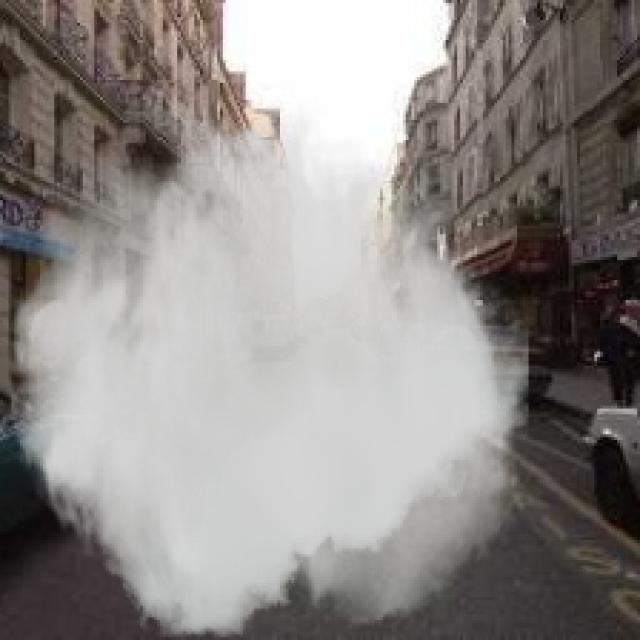smoke: (3, 89, 528, 637)
